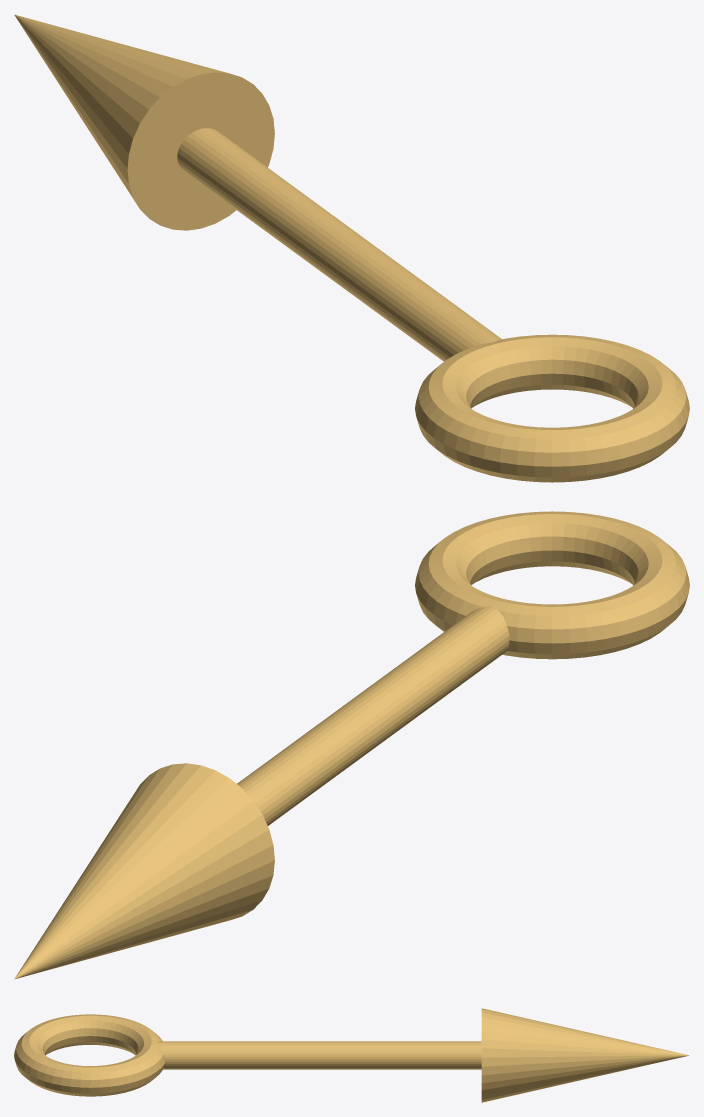
File: hourHand.fbx
3 views of the same model, one above another, from view 1: azimuth 30°, elevation 25°; view 2: azimuth 150°, elevation 25°; view 3: azimuth 270°, elevation 25° (orthographic). The views are drawn at different scales.
Parts seen in each view (by area): view 1: hourHand; view 2: hourHand; view 3: hourHand.
Part boxes in pixels (x1=…): hourHand: x1=14, y1=14, x2=689, y2=482; hourHand: x1=14, y1=511, x2=689, y2=979; hourHand: x1=14, y1=1008, x2=689, y2=1102.
Bounding box in the file's own units: 197 × 122 × 871.
